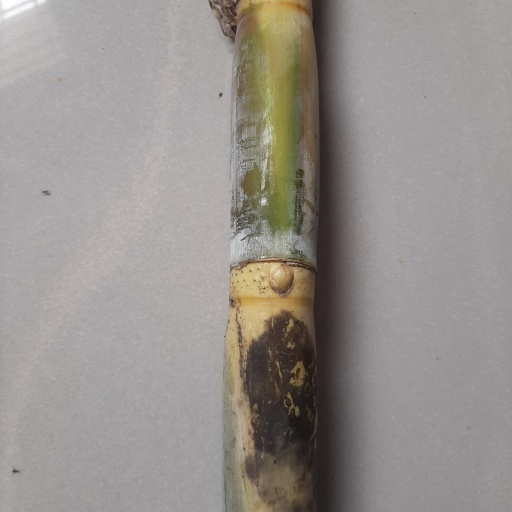Bud: (269, 263, 294, 295)
